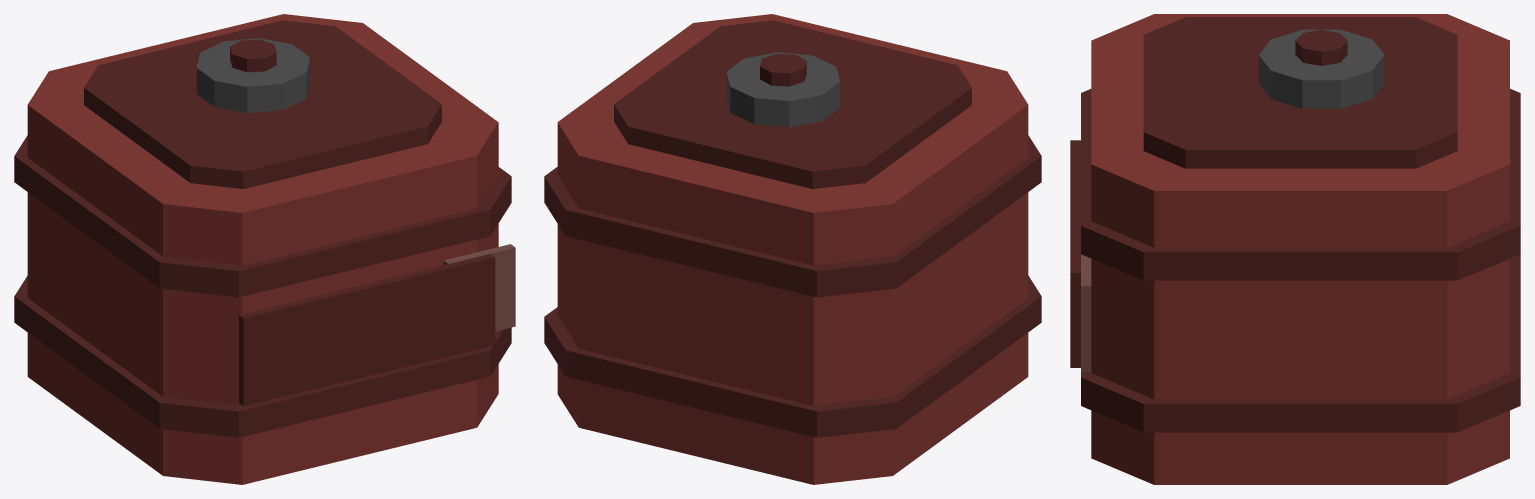
Rendered from ancient_chemfuel_canister_closed.obj.
The picture shows the model from 3 angles, left to right: view 1: azimuth 30°, elevation 25°; view 2: azimuth 150°, elevation 25°; view 3: azimuth 270°, elevation 25°; orthographic projection. The views are drawn at different scales.
Parts seen in each view (by area): view 1: ancient_chemfuel_canister_closed; view 2: ancient_chemfuel_canister_closed; view 3: ancient_chemfuel_canister_closed.
Part boxes in pixels (left/top/right/bottom): ancient_chemfuel_canister_closed: left=14, top=14, right=515, bottom=484; ancient_chemfuel_canister_closed: left=544, top=14, right=1041, bottom=484; ancient_chemfuel_canister_closed: left=1070, top=14, right=1520, bottom=484.
Size of the model in its own units: 0.84 by 0.75 by 0.86.
